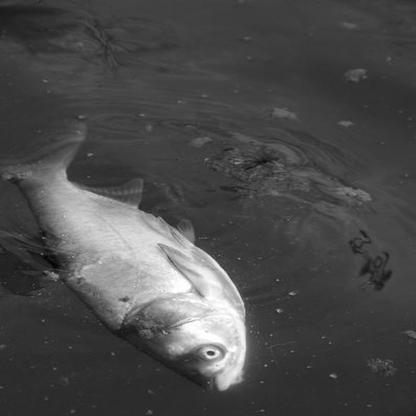deceased fish: (7, 132, 247, 393)
